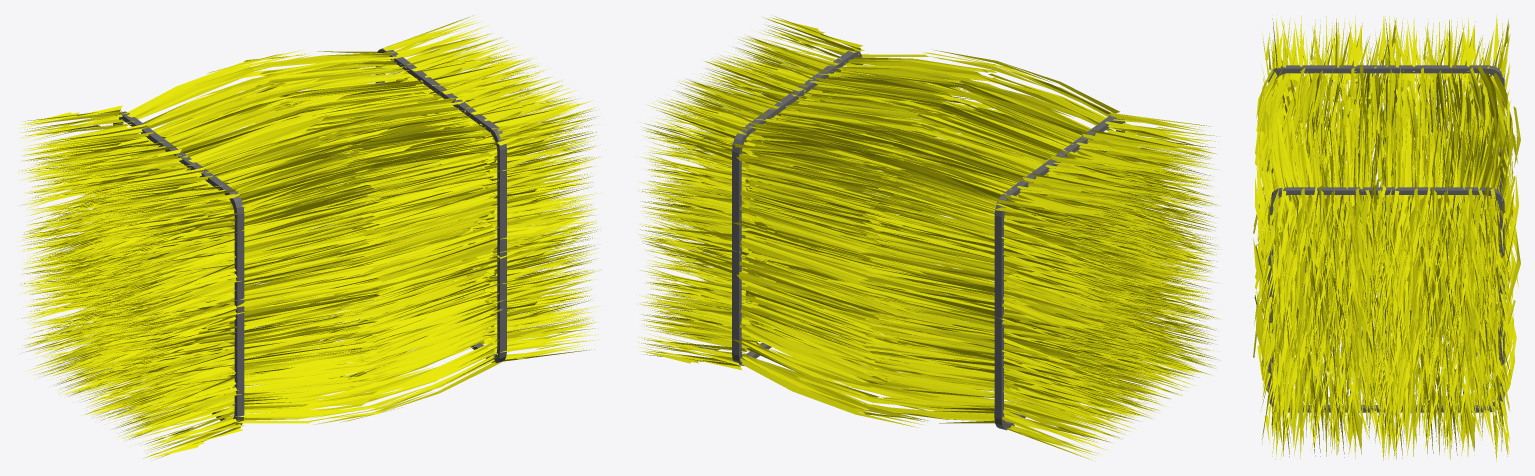
File: weed.fbx
The picture shows the model from 3 angles, left to right: view 1: azimuth 30°, elevation 25°; view 2: azimuth 150°, elevation 25°; view 3: azimuth 270°, elevation 25°; orthographic projection. The views are drawn at different scales.
Visible parts, largest first — view 1: wires_hay, wires_wires; view 2: wires_hay, wires_wires; view 3: wires_hay, wires_wires.
Part boxes in pixels (bbox=[...]): wires_hay: bbox=[17, 16, 602, 458]; wires_wires: bbox=[113, 49, 506, 424]; wires_hay: bbox=[637, 16, 1221, 459]; wires_wires: bbox=[732, 50, 1125, 430]; wires_hay: bbox=[1253, 15, 1520, 461]; wires_wires: bbox=[1268, 65, 1504, 412].
Size of the model in its own units: 69.75 by 38.34 by 37.01.
